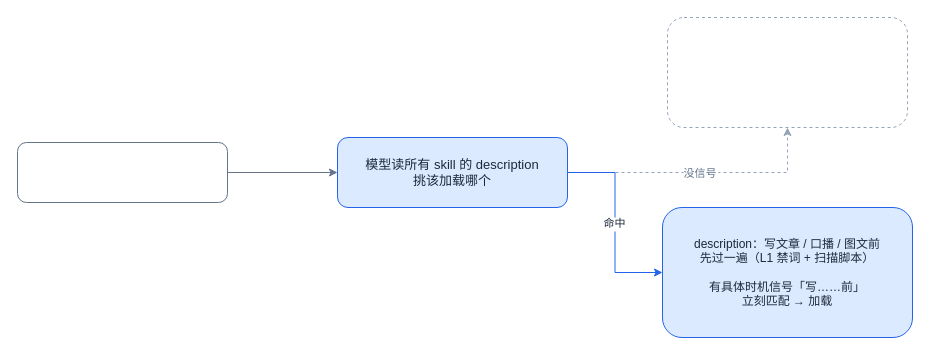
Image size: 930x355. Some labels were removed from this diagram. The shapes that lost their labels are listed below. From the top down, each one's centre as x and y in pixels, then its label:
At (x=787, y=72): "description：写作助手，提升文章质量 跟一百个 skill 撞脸 模型没理由选中它 → 跳过".
At (x=122, y=172): "用户说：帮我写篇稿子".
